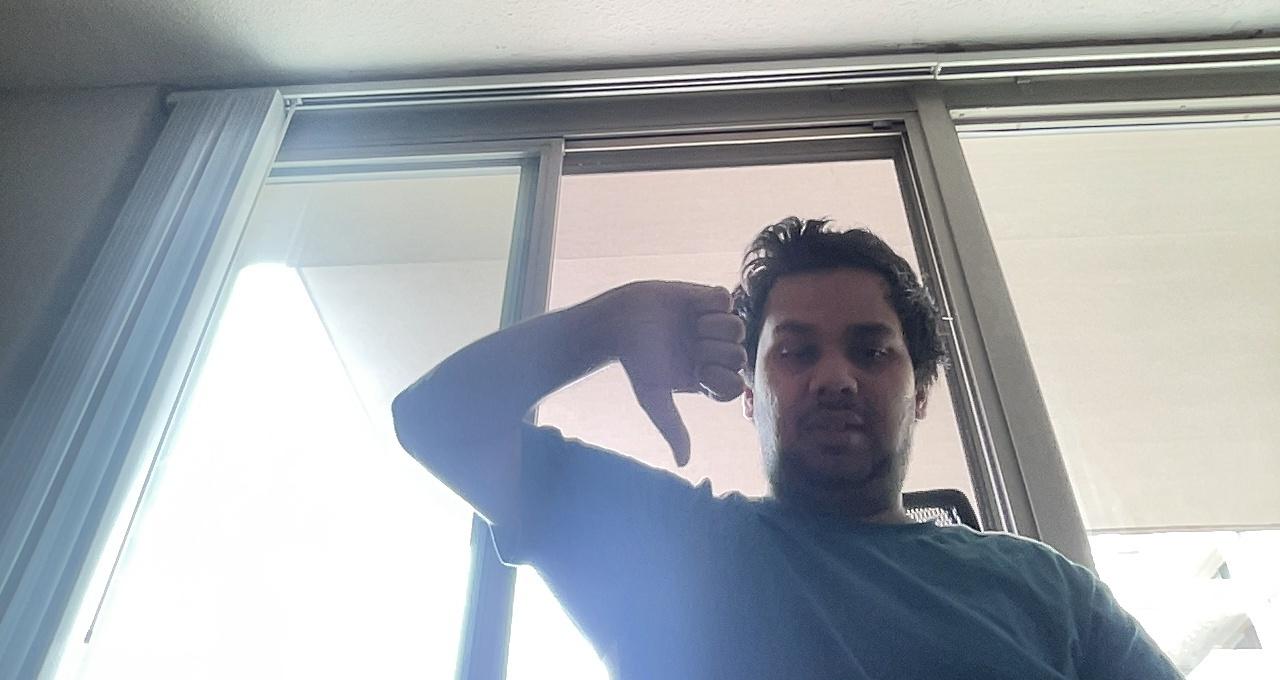thumbsdown: (608, 273, 752, 476)
